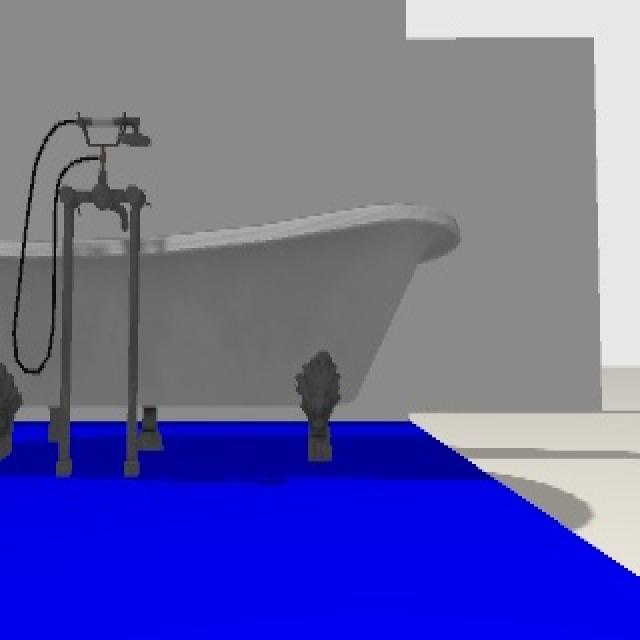bathtub: (0, 112, 463, 464)
